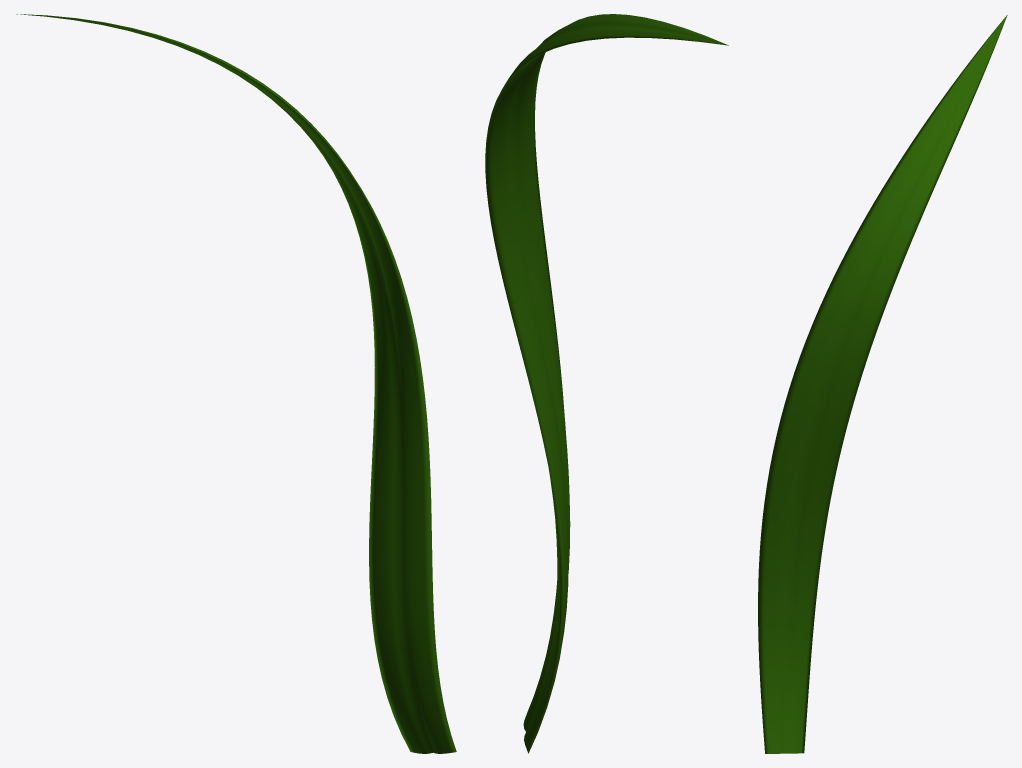
The picture shows the model from 3 angles, left to right: view 1: azimuth 30°, elevation 25°; view 2: azimuth 150°, elevation 25°; view 3: azimuth 270°, elevation 25°; orthographic projection. The views are drawn at different scales.
Visible parts, largest first — view 1: ТраекторияNurbs.019; view 2: ТраекторияNurbs.019; view 3: ТраекторияNurbs.019.
Boxes of the visible parts, x1,y1,x2,y2 form: ТраекторияNurbs.019: (16, 14, 456, 753); ТраекторияNurbs.019: (485, 14, 728, 753); ТраекторияNurbs.019: (758, 15, 1007, 753).
Bounding box in the file's own units: 143 × 325 × 118.
